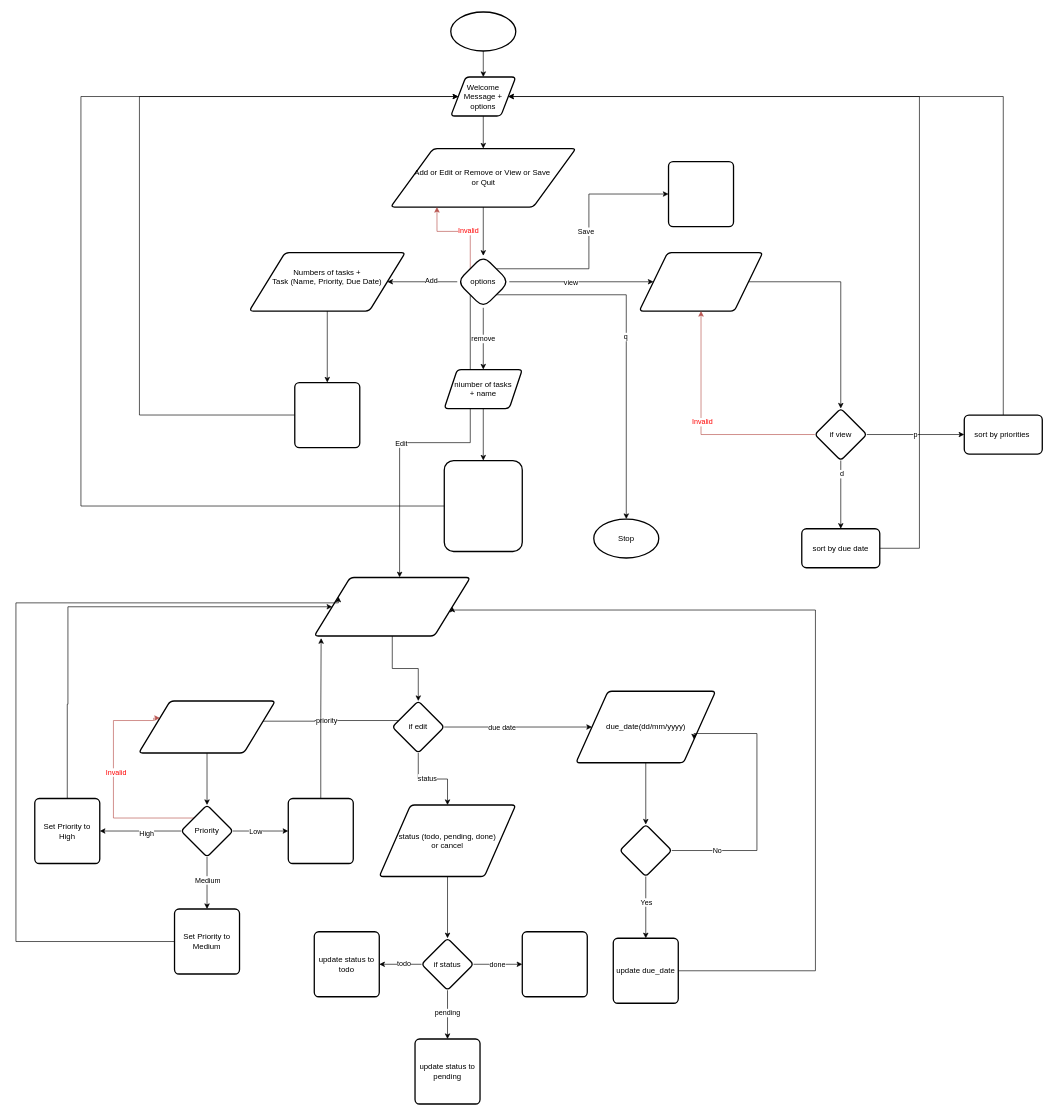
Some shapes in this 1054 by 1115 pixel diagram are drawn without their labels. The centre of each missing label's shape, as x and y in pixels:
Add Task to All Tasks: pixel 327 415
Create new text file: pixel 701 194
due_date correct?: pixel 645 850
priority(High, Medium, Low): pixel 207 726
remove tasks: pixel 483 506
Set Priority to Low: pixel 320 831
Start: pixel 483 31
Task Name print (priority, status , due date) edit= input: pixel 392 606
update status to done: pixel 554 964
View tasks sorted by priorities or due date (p or d): pixel 700 281
